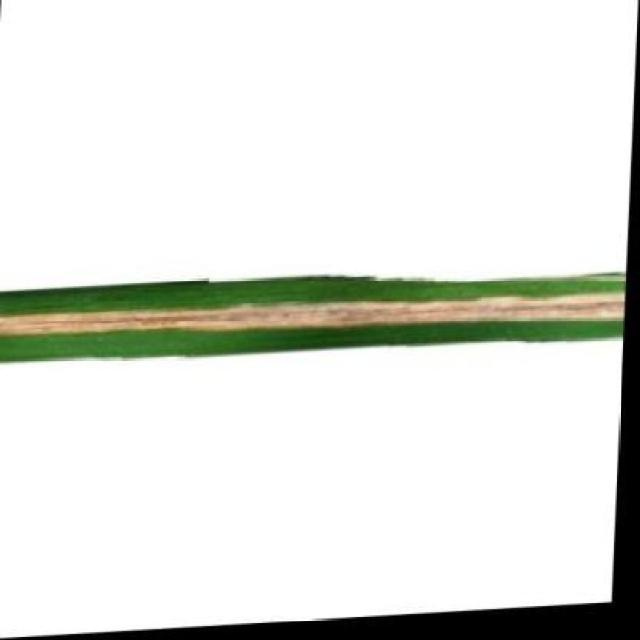Brown_Spot: (0, 256, 631, 382)
